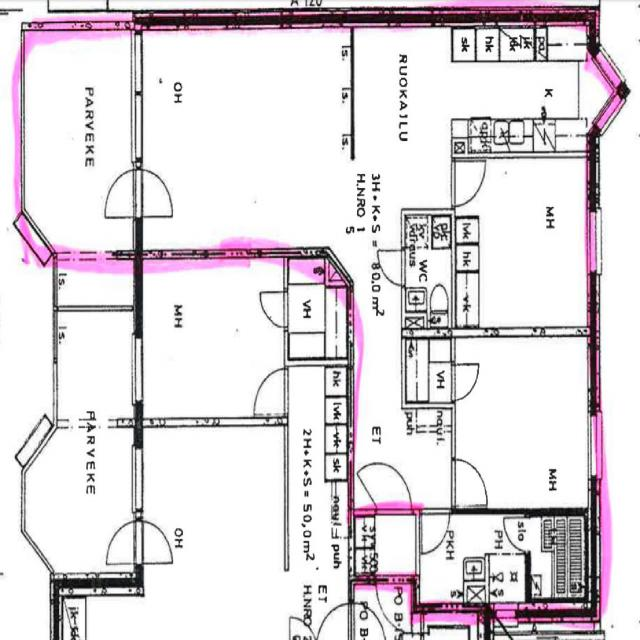door: (133, 170, 176, 217), (99, 170, 142, 217), (376, 574, 411, 630), (376, 460, 411, 513), (452, 458, 488, 506), (451, 160, 488, 205), (422, 507, 449, 553), (451, 364, 481, 401), (376, 250, 406, 285), (500, 518, 530, 551)
